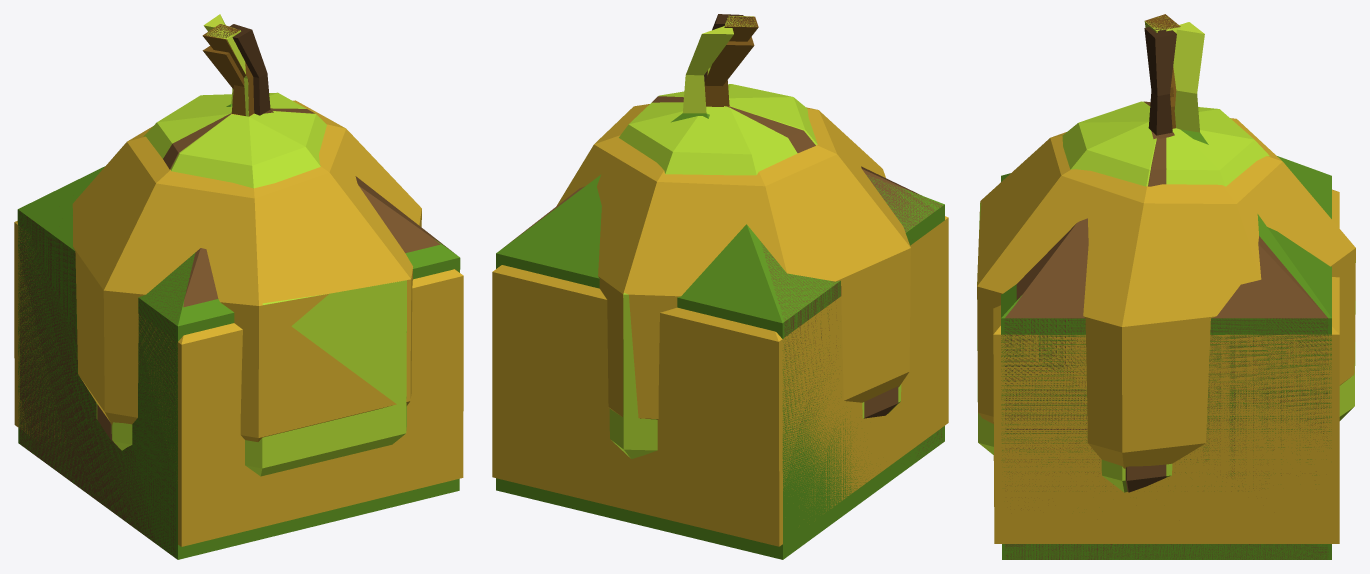
Rendered from Coco_G.fbx.
3 renders of one model, left to right at view 1: azimuth 30°, elevation 25°; view 2: azimuth 150°, elevation 25°; view 3: azimuth 270°, elevation 25°, orthographic. The views are drawn at different scales.
Parts seen in each view (by area): view 1: Coco_Orange_R, Coco_Orange_S, Coco_Green_S, Coco_Brown_S, Coco_Green_R, Coco_Orange_R_Open_Top, Coco_Orange_R_Open_Down, Coco_Green_R_Open_Down, Coco_Green_R_Open_Top, Coco_Brown_R; view 2: Coco_Orange_S, Coco_Orange_R, Coco_Green_S, Coco_Green_R, Coco_Orange_R_Open_Top, Coco_Brown_S, Coco_Green_R_Open_Top, Coco_Orange_R_Open_Down, Coco_Brown_R, Coco_Brown_R_Open_Down; view 3: Coco_Orange_S, Coco_Orange_R, Coco_Orange_R_Open_Top, Coco_Green_S, Coco_Orange_R_Open_Down, Coco_Brown_S, Coco_Green_R, Coco_Green_R_Open_Top, Coco_Green_R_Open_Down, Coco_Brown_R_Open_Down, Coco_Brown_R.
Boxes of the visible parts, x1,y1,x2,y2 form: Coco_Orange_R: [72, 24, 421, 441]; Coco_Orange_S: [14, 46, 463, 546]; Coco_Green_S: [17, 14, 460, 559]; Coco_Brown_S: [19, 24, 453, 557]; Coco_Green_R: [143, 24, 406, 476]; Coco_Orange_R_Open_Top: [114, 26, 421, 304]; Coco_Orange_R_Open_Down: [101, 209, 421, 441]; Coco_Green_R_Open_Down: [96, 288, 406, 471]; Coco_Green_R_Open_Top: [144, 30, 326, 181]; Coco_Brown_R: [163, 24, 314, 169]; Coco_Orange_S: [492, 37, 948, 546]; Coco_Orange_R: [573, 16, 910, 419]; Coco_Green_S: [496, 26, 944, 559]; Coco_Green_R: [609, 16, 817, 458]; Coco_Orange_R_Open_Top: [557, 16, 814, 293]; Coco_Brown_S: [505, 14, 942, 455]; Coco_Green_R_Open_Top: [620, 16, 807, 165]; Coco_Orange_R_Open_Down: [598, 251, 908, 409]; Coco_Brown_R: [652, 16, 864, 418]; Coco_Brown_R_Open_Down: [864, 386, 898, 418]; Coco_Orange_S: [993, 78, 1339, 543]; Coco_Orange_R: [977, 14, 1340, 418]; Coco_Orange_R_Open_Top: [977, 14, 1355, 325]; Coco_Green_S: [1001, 22, 1331, 559]; Coco_Orange_R_Open_Down: [977, 248, 1355, 468]; Coco_Brown_S: [1004, 27, 1328, 559]; Coco_Green_R: [1062, 16, 1353, 420]; Coco_Green_R_Open_Top: [977, 16, 1269, 283]; Coco_Green_R_Open_Down: [977, 260, 1355, 492]; Coco_Brown_R_Open_Down: [1125, 464, 1166, 492]; Coco_Brown_R: [1147, 15, 1173, 186].
Size of the model in its own units: 64.95 by 84.99 by 63.8.
